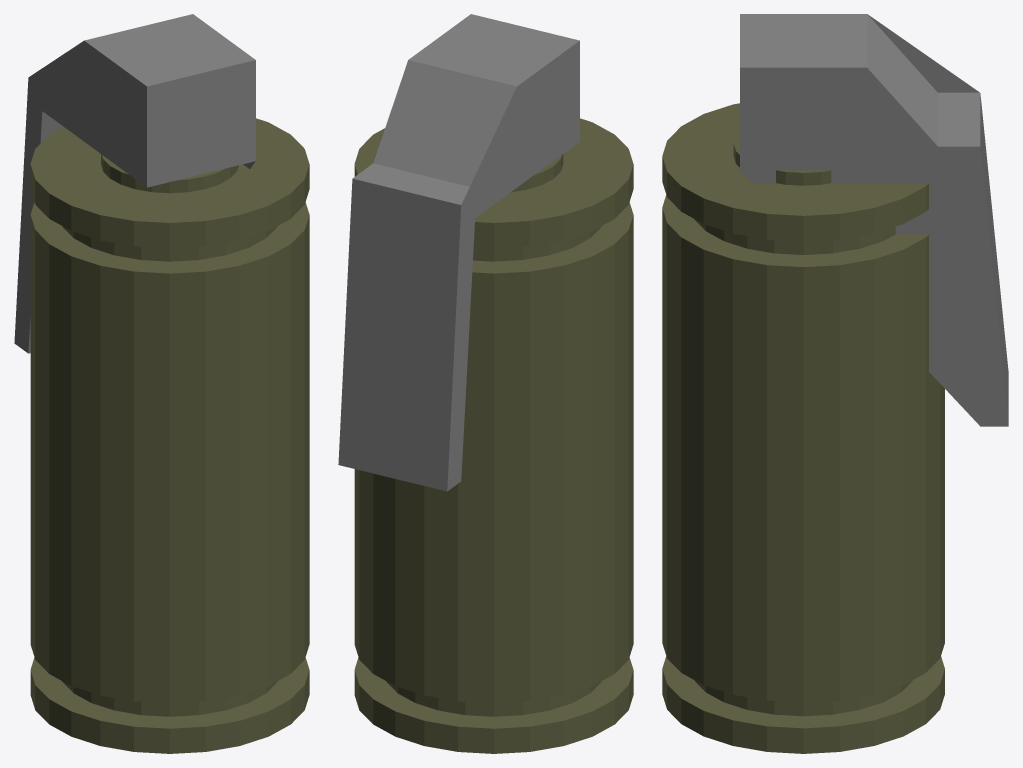
File: grenadesmoke.glb
3 renders of one model, left to right at view 1: azimuth 30°, elevation 25°; view 2: azimuth 150°, elevation 25°; view 3: azimuth 270°, elevation 25°, orthographic.
Visible parts, largest first — view 1: Mesh1 Group2 Group1 Model, Mesh2 Group3 Group1 Model; view 2: Mesh1 Group2 Group1 Model, Mesh2 Group3 Group1 Model; view 3: Mesh1 Group2 Group1 Model, Mesh2 Group3 Group1 Model.
Boxes of the visible parts, x1,y1,x2,y2 form: Mesh1 Group2 Group1 Model: (30,118,309,753); Mesh2 Group3 Group1 Model: (14,14,255,353); Mesh1 Group2 Group1 Model: (354,118,633,753); Mesh2 Group3 Group1 Model: (338,14,579,491); Mesh1 Group2 Group1 Model: (662,103,944,753); Mesh2 Group3 Group1 Model: (740,14,1008,426).
Size of the model in its own units: 0.012 by 0.0306 by 0.0147.
